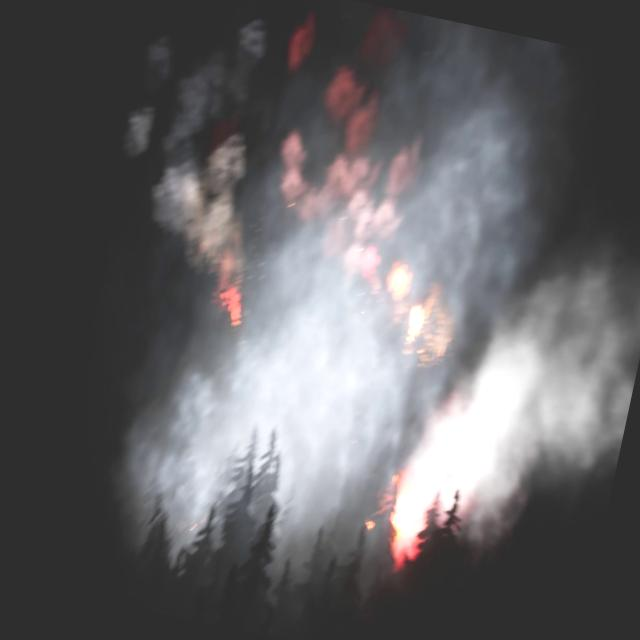fire: (374, 478, 444, 568)
smoke: (45, 0, 562, 603), (382, 229, 640, 607)
